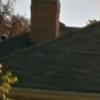Chimney: (27, 0, 60, 44)
